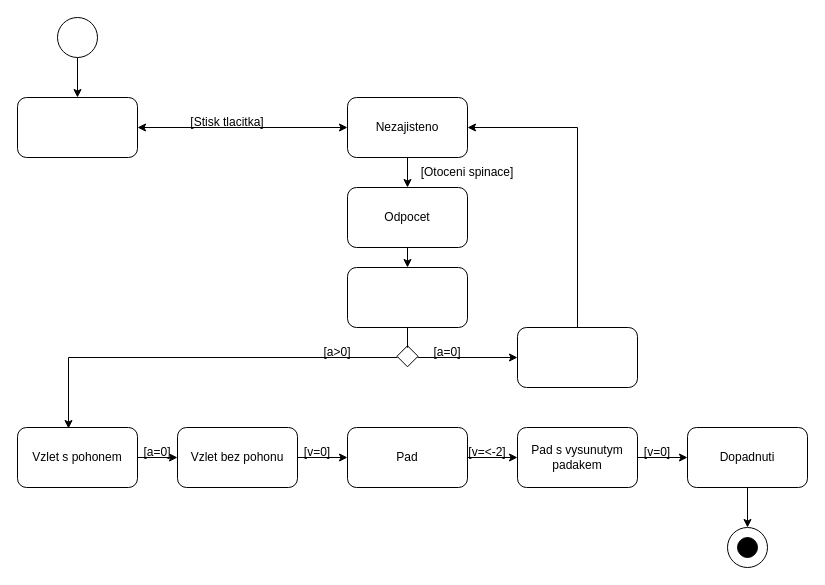
This 825x585 diagram has some shape labels left out. The centre of each missing label's shape, as x and y in pixels:
"Preruseni" belongs at pixel 577 357.
"Zajisteno" belongs at pixel 77 127.
"Zazeh" belongs at pixel 407 297.
